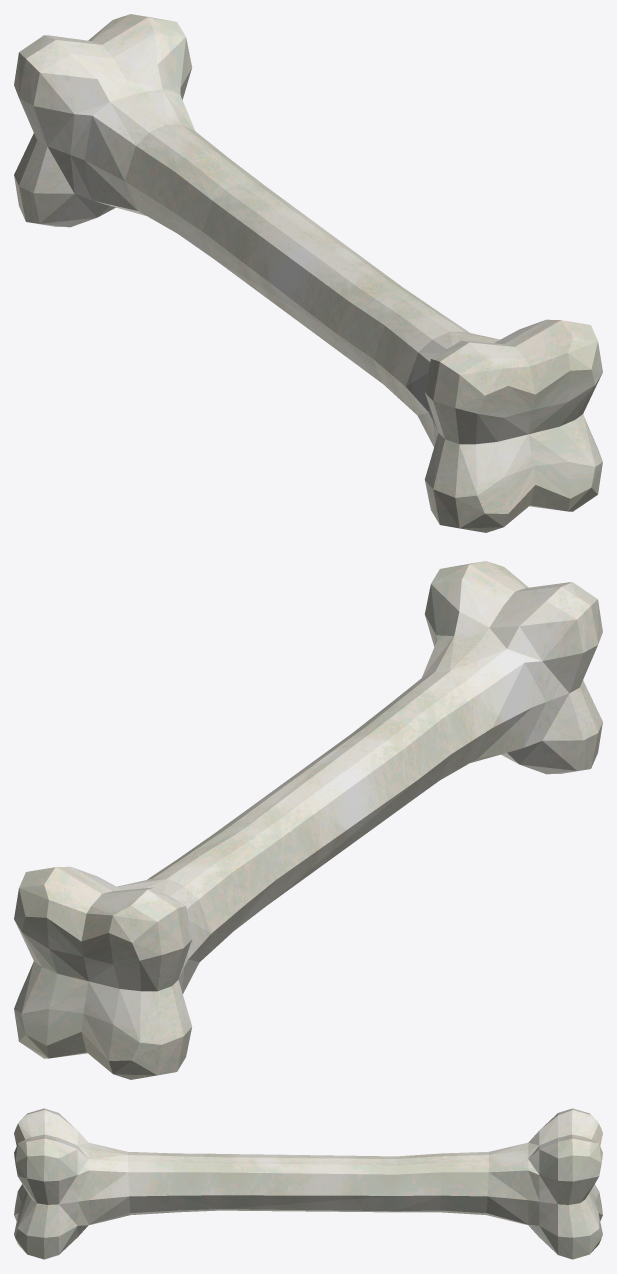
The model's file is stick_a.fbx.
3 views of the same model, one above another, from view 1: azimuth 30°, elevation 25°; view 2: azimuth 150°, elevation 25°; view 3: azimuth 270°, elevation 25° (orthographic). The views are drawn at different scales.
Visible parts, largest first — view 1: Stick A; view 2: Stick A; view 3: Stick A.
Boxes of the visible parts, left/top/right/bottom form: Stick A: left=14, top=14, right=602, bottom=532; Stick A: left=14, top=561, right=602, bottom=1079; Stick A: left=14, top=1108, right=602, bottom=1259.
Bounding box in the file's own units: 329 × 357 × 1596.
Materials: 1 (1 with a texture image).
